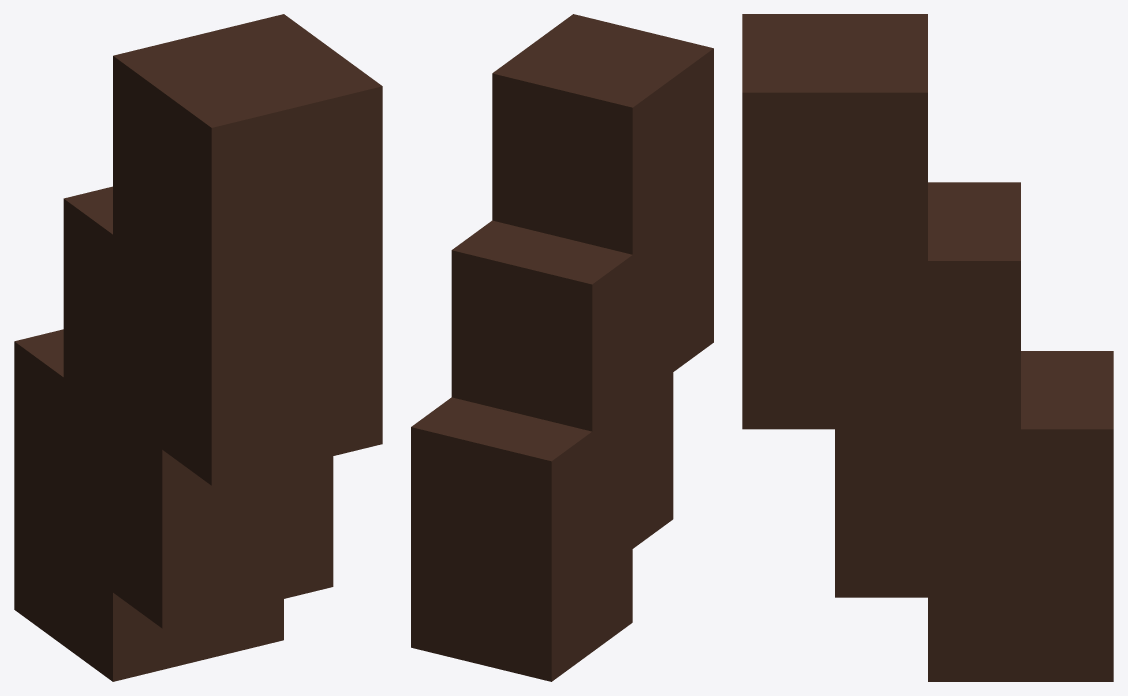
Rendered from foal__tail.glb.
The picture shows the model from 3 angles, left to right: view 1: azimuth 30°, elevation 25°; view 2: azimuth 150°, elevation 25°; view 3: azimuth 270°, elevation 25°; orthographic projection. The views are drawn at different scales.
Parts seen in each view (by area): view 1: foal__tail; view 2: foal__tail; view 3: foal__tail.
Part boxes in pixels (x1,y1,x2,y2): foal__tail: (14, 14, 382, 681); foal__tail: (411, 14, 713, 681); foal__tail: (742, 14, 1113, 681).
Bounding box in the file's own units: 0.2 × 0.7 × 0.4.
1 material, 1 textured.
